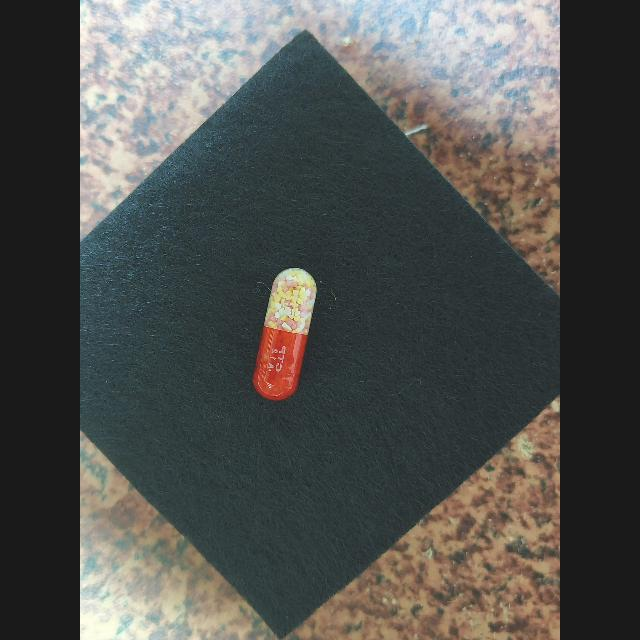Intact Capsule: (253, 268, 317, 400)
